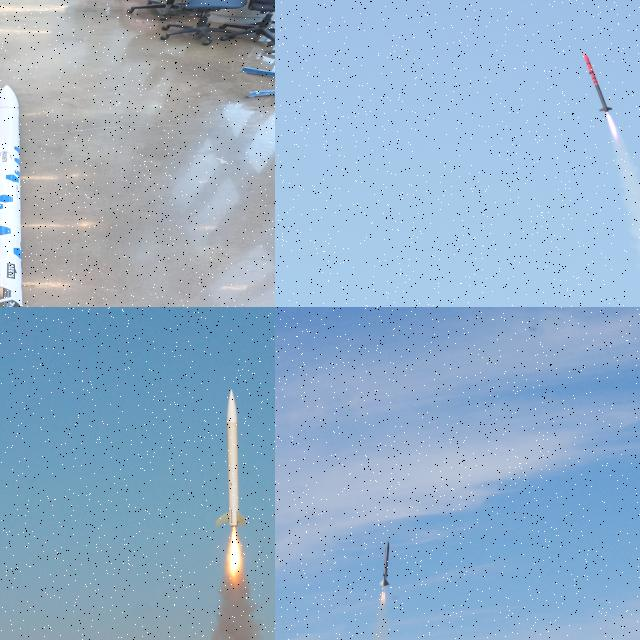Rocket: (0, 84, 23, 307), (215, 389, 247, 529), (583, 52, 613, 112), (378, 540, 390, 586)
